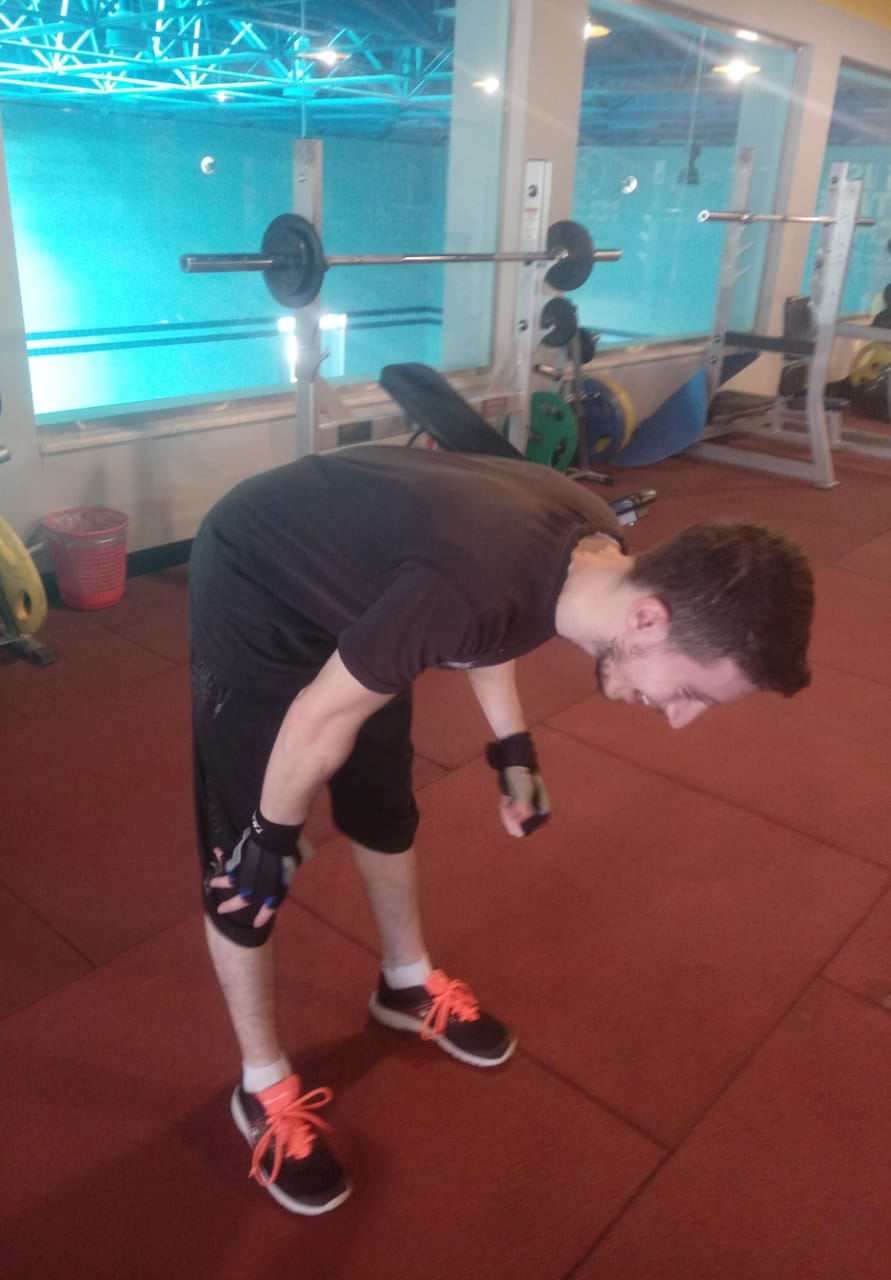ruku: (173, 442, 843, 1250)
